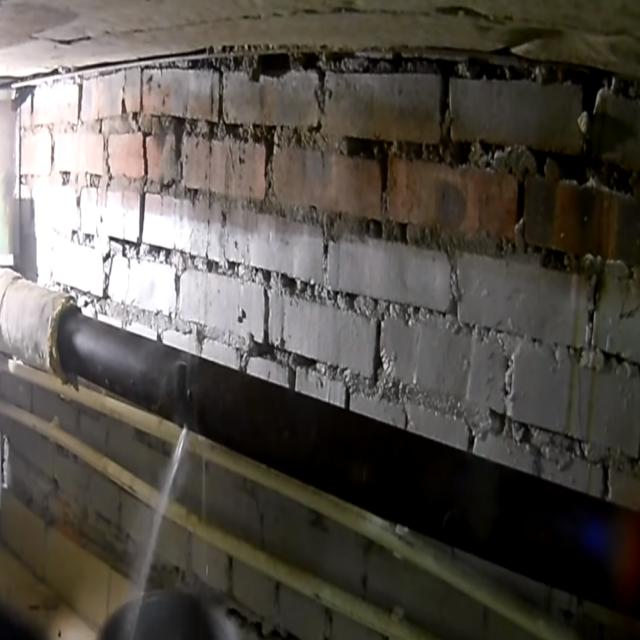leak: (139, 425, 188, 598)
